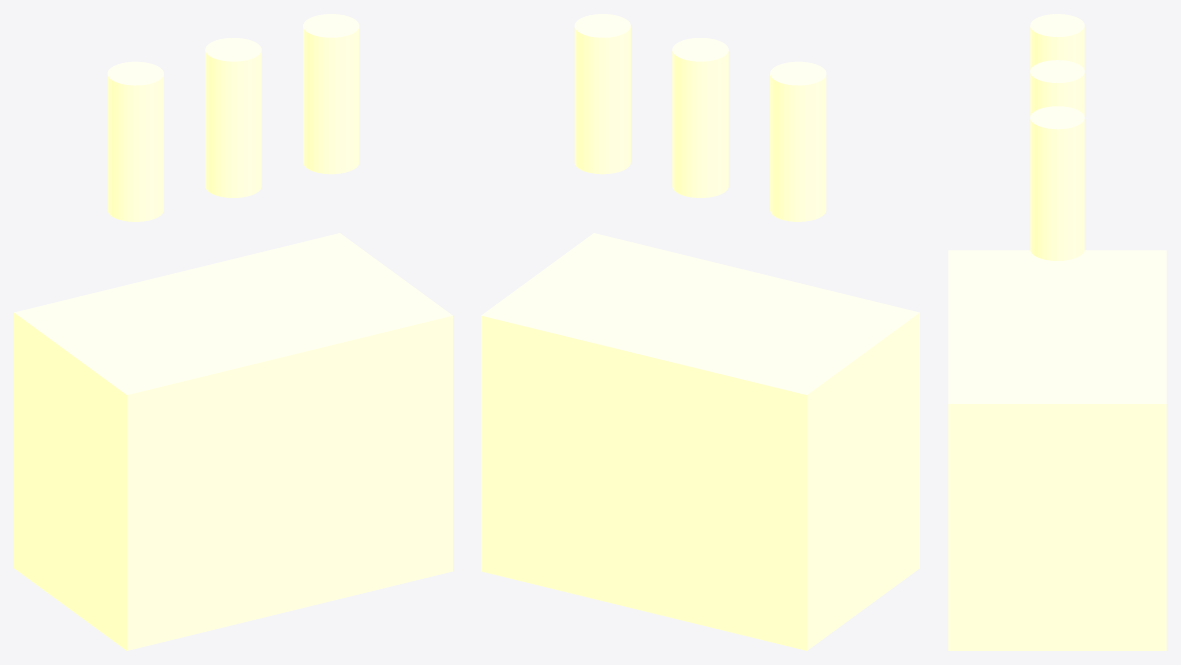
The model's file is SM_AmmoPickup.fbx.
3 views of the same model, side by side, from view 1: azimuth 30°, elevation 25°; view 2: azimuth 150°, elevation 25°; view 3: azimuth 270°, elevation 25° (orthographic). The views are drawn at different scales.
Parts seen in each view (by area): view 1: SM_AmmoPickup; view 2: SM_AmmoPickup; view 3: SM_AmmoPickup.
Boxes of the visible parts, x1,y1,x2,y2 form: SM_AmmoPickup: [14, 14, 452, 650]; SM_AmmoPickup: [481, 14, 919, 650]; SM_AmmoPickup: [948, 14, 1166, 650].
Bounding box in the file's own units: 0.2 × 0.12 × 0.305.
